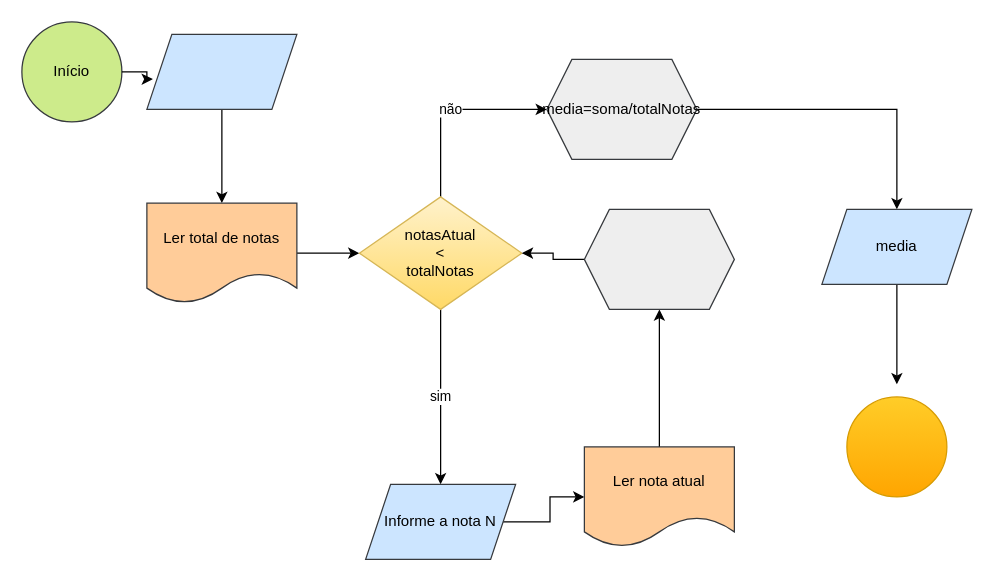
The diagram is 994 pixels wide and 581 high, and some of its shapes have lost their labels. The box of each missing label's shape, as (x1, y1, x2, y2) in pixels:
Digite o total de notas: (146, 33, 297, 109)
fim: (846, 396, 947, 497)
soma=soma + notaAtual contador++: (583, 208, 734, 309)
